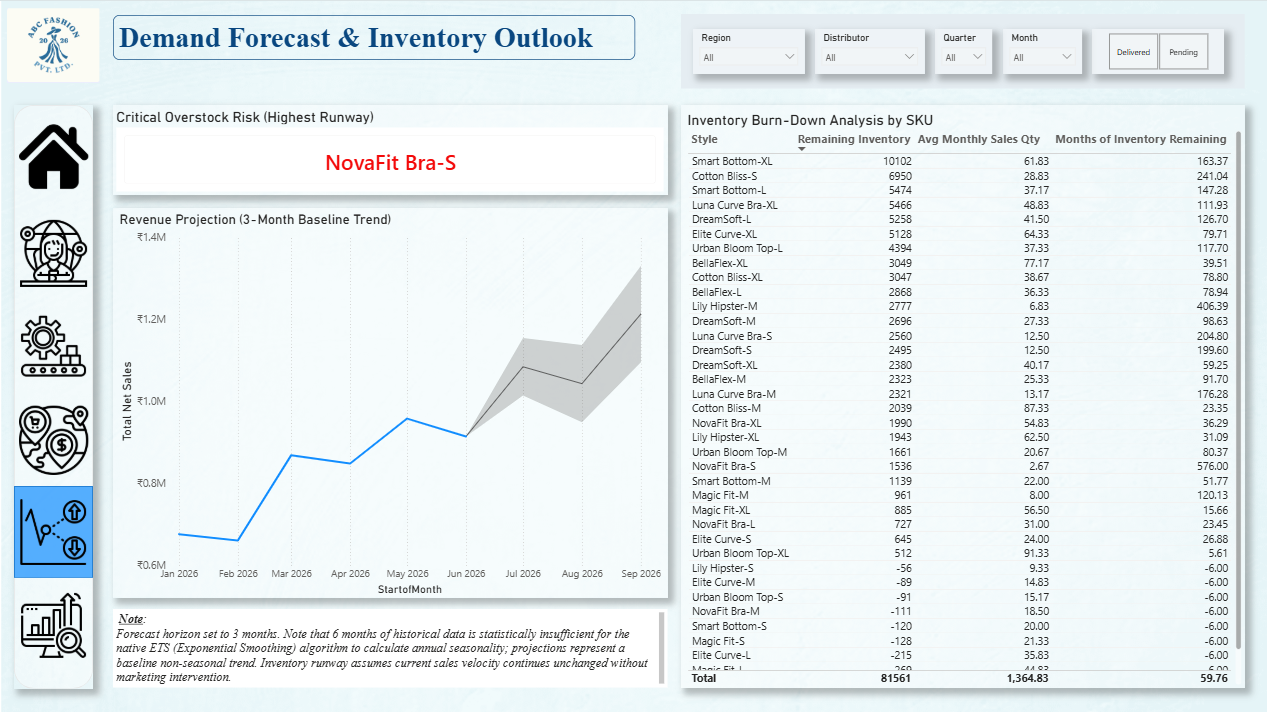

The page's visual inventory and layout, read from the dashboard file:
{"tool":"powerbi","page":{"name":"Demand Forecast & Inventory Outlook","canvas":[1920,1080],"ordinal":4},"visuals":[{"type":"textbox","box":[169.2,20.5,791.2,68.4],"z":0},{"type":"image","box":[9.2,0,140.2,134.6],"z":1000},{"type":"lineChart","title":"Revenue Projection (3-Month Baseline Trend)","fields":{"Y":["Measures_Table.Total Net Sales"],"Category":["Dim_Date.StartofMonth"]},"box":[169.6,314.1,839.6,590.4],"z":4000},{"type":"tableEx","title":"Inventory Burn-Down Analysis by SKU","fields":{"Values":["Dim_Style.Style","Measures_Table.Remaining Inventory","Measures_Table.Avg Monthly Sales Qty","Measures_Table.Months of Inventory Remaining"]},"box":[1030.4,157.2,854.4,883.5],"z":5000},{"type":"image","box":[27,328.9,104.7,106.8],"z":5000,"group":"g1"},{"type":"cardVisual","title":"Critical Overstock Risk (Highest Runway)","fields":{"Data":["Min(Dim_Style.Style)"]},"box":[169.6,157,839.6,136.1],"z":6000},{"type":"image","box":[27,177.2,104.7,117.3],"z":6000,"group":"g1"},{"type":"image","box":[27,889.6,104.7,113.1],"z":7000,"group":"g1"},{"type":"textbox","box":[169.6,921.3,839.6,119.3],"z":7000},{"type":"shape","box":[19.9,156.9,119.5,884],"z":8000},{"type":"shape","box":[19.9,734.6,119.5,139.5],"z":9000},{"type":"group","id":"g1","title":"Navigation img","box":[22.8,177.2,113.1,825.5],"z":10000},{"type":"group","id":"g2","title":"Group 1","box":[1030.4,20.1,854.4,112.8],"z":11000},{"type":"shape","box":[1030.4,20.1,854.4,112.8],"z":12000,"group":"g2"},{"type":"slicer","fields":{"Values":["Dim_Date.MonthName"]},"box":[1517.6,42.3,119.6,68.4],"z":12500,"group":"g2"},{"type":"slicer","fields":{"Values":["Dim_Region.Region"]},"box":[1049.3,42.3,169.2,68.4],"z":13000,"group":"g2"},{"type":"slicer","fields":{"Values":["Dim_Distributor.Distributor"]},"box":[1233.9,42.3,165.8,68.4],"z":14000,"group":"g2"},{"type":"slicer","fields":{"Values":["Dim_Date.Quarter"]},"box":[1415,42.3,87.2,68.4],"z":15000,"group":"g2"},{"type":"slicer","fields":{"Values":["Fact_Sales.Order Status"]},"box":[1652.6,42.3,199.9,68.4],"z":16000,"group":"g2"},{"type":"image","box":[27,470.1,104.7,106.8],"z":19000,"group":"g1"},{"type":"image","box":[27,611.3,104.7,106.8],"z":20000,"group":"g1"},{"type":"image","box":[22.8,752.6,113.1,102.6],"z":21000,"group":"g1"}]}

Visuals, with their boxes in screenshot pixels (x1, y1, x2, y2), scaled from the page's 1920x1080 canvas onto the 1267x712 screenshot:
textbox: (112,14,634,59)
image: (6,0,99,89)
"Revenue Projection (3-Month Baseline Trend)" lineChart: (112,207,666,596)
"Inventory Burn-Down Analysis by SKU" tableEx: (680,104,1244,686)
image: (18,217,87,287)
"Critical Overstock Risk (Highest Runway)" cardVisual: (112,104,666,193)
image: (18,117,87,194)
image: (18,586,87,661)
textbox: (112,607,666,686)
shape: (13,103,92,686)
shape: (13,484,92,576)
"Navigation img" group: (15,117,90,661)
"Group 1" group: (680,13,1244,88)
shape: (680,13,1244,88)
slicer - Dim_Date.MonthName: (1001,28,1080,73)
slicer - Dim_Region.Region: (692,28,804,73)
slicer - Dim_Distributor.Distributor: (814,28,924,73)
slicer - Dim_Date.Quarter: (934,28,991,73)
slicer - Fact_Sales.Order Status: (1091,28,1222,73)
image: (18,310,87,380)
image: (18,403,87,473)
image: (15,496,90,564)
